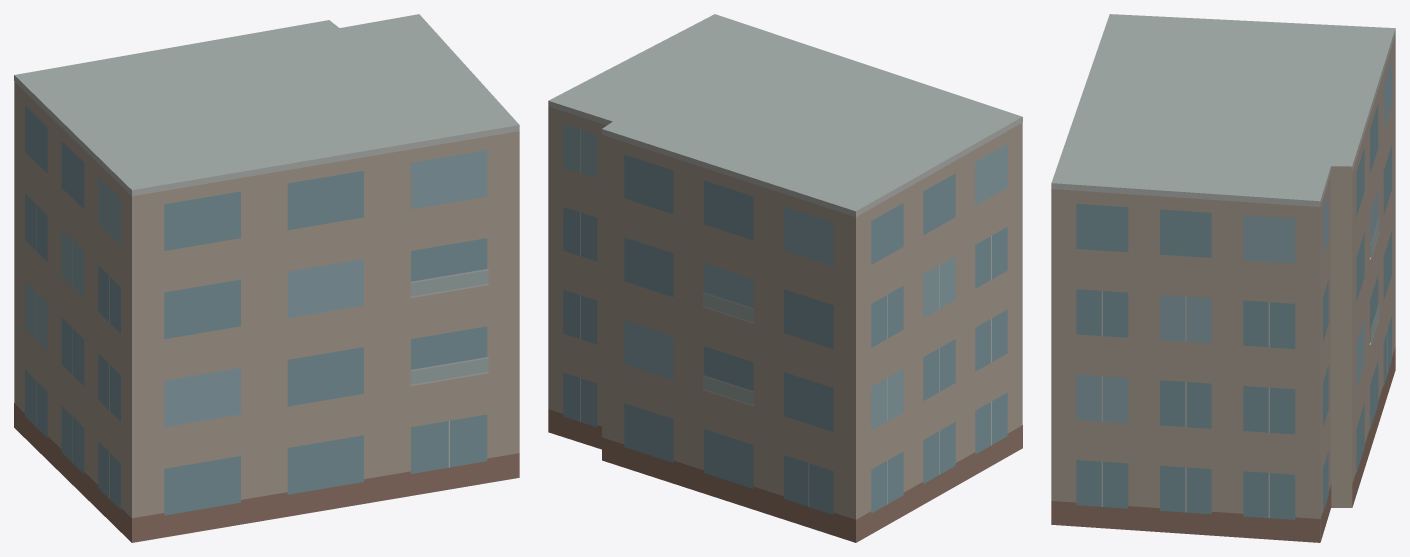
Rendered from survey-upis-32785962.glb.
The picture shows the model from 3 angles, left to right: view 1: azimuth 30°, elevation 25°; view 2: azimuth 150°, elevation 25°; view 3: azimuth 270°, elevation 25°; orthographic projection. The views are drawn at different scales.
Parts seen in each view (by area): view 1: survey-upis-32785962.tmp; view 2: survey-upis-32785962.tmp; view 3: survey-upis-32785962.tmp.
Boxes of the visible parts, left/top/right/bottom form: survey-upis-32785962.tmp: left=14, top=14, right=519, bottom=542; survey-upis-32785962.tmp: left=548, top=14, right=1022, bottom=542; survey-upis-32785962.tmp: left=1051, top=14, right=1395, bottom=542.
Size of the model in its own units: 16.58 by 14.1 by 12.89.
